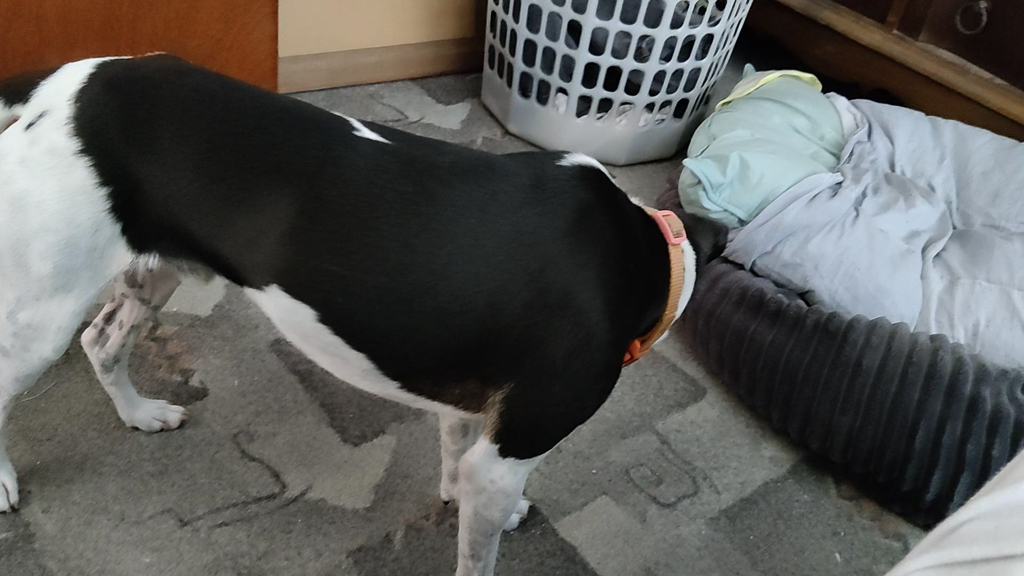Dog: (0, 39, 736, 576)
